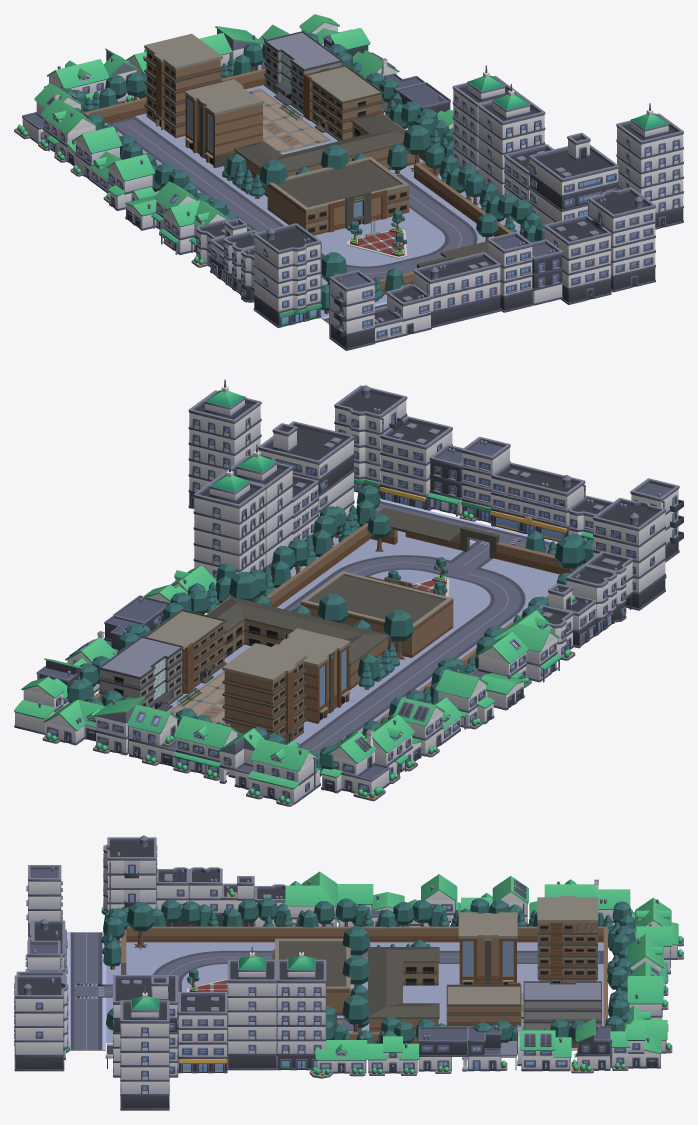
Rendered from qcu_mapv2.glb.
3 views of the same model, one above another, from view 1: azimuth 30°, elevation 25°; view 2: azimuth 150°, elevation 25°; view 3: azimuth 270°, elevation 25° (orthographic). The views are drawn at different scales.
Visible parts, largest first — view 1: commercbuildings, communibuildings, tree_detailed_dark.002, tile-low, TechVoc, Admin bldg, Bautista, computer lab, Yellow Bldg, Cube, walls, Triangle; view 2: commercbuildings, communibuildings, tile-low, tree_detailed_dark.002, Bautista, TechVoc, walls, Yellow Bldg, Cube, Admin bldg, computer lab, walls.001; view 3: commercbuildings, communibuildings, tree_detailed_dark.002, tile-low, walls, Bautista, Yellow Bldg, Admin bldg, Cube, computer lab, TechVoc.
Part boxes in pixels (<box>): commercbuildings: <box>191,65,683,350</box>; communibuildings: <box>14,14,453,254</box>; tree_detailed_dark.002: <box>62,33,548,313</box>; tile-low: <box>105,85,520,323</box>; TechVoc: <box>267,156,409,235</box>; Admin bldg: <box>184,79,263,167</box>; Bautista: <box>144,33,222,137</box>; computer lab: <box>303,64,383,140</box>; Yellow Bldg: <box>234,112,415,196</box>; Cube: <box>264,31,342,113</box>; walls: <box>83,68,512,294</box>; Triangle: <box>347,219,407,258</box>; commercbuildings: <box>188,379,683,660</box>; communibuildings: <box>14,565,561,806</box>; tile-low: <box>167,499,559,753</box>; tree_detailed_dark.002: <box>67,485,593,776</box>; Bautista: <box>222,643,306,743</box>; TechVoc: <box>300,571,453,657</box>; walls: <box>87,507,583,733</box>; Yellow Bldg: <box>207,596,389,689</box>; Cube: <box>98,636,183,711</box>; Admin bldg: <box>272,628,350,723</box>; computer lab: <box>144,609,226,693</box>; walls.001: <box>460,526,499,558</box>; commercbuildings: <box>14,835,326,1110</box>; communibuildings: <box>285,871,683,1078</box>; tree_detailed_dark.002: <box>101,897,635,1057</box>; tile-low: <box>67,932,603,1050</box>; walls: <box>121,926,607,1047</box>; Bautista: <box>537,896,598,982</box>; Yellow Bldg: <box>368,947,439,1032</box>; Admin bldg: <box>458,912,517,984</box>; Cube: <box>523,981,601,1030</box>; computer lab: <box>446,982,521,1027</box>; TechVoc: <box>272,938,350,1015</box>.
Bounding box in the file's own units: 11.86 × 3.22 × 16.82.
Materials: 56 (42 with a texture image).
